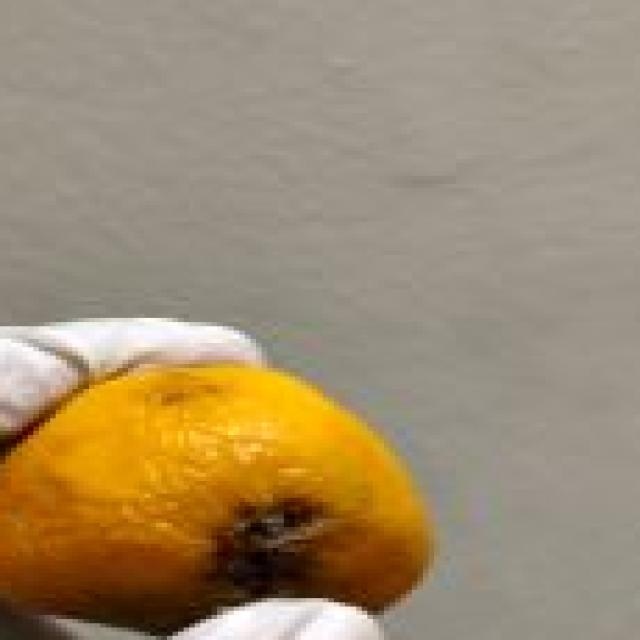Bad_Orange-0-1 day: (0, 360, 440, 640)
